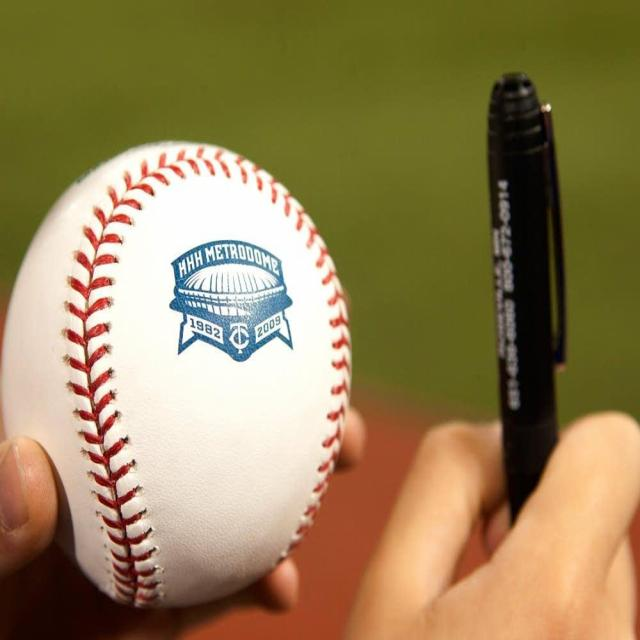baseball: (4, 137, 347, 603)
